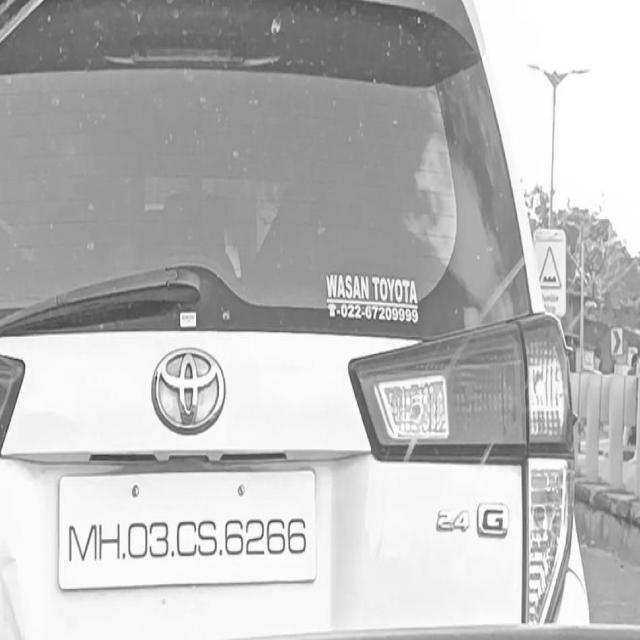license-plate: (57, 477, 314, 586)
